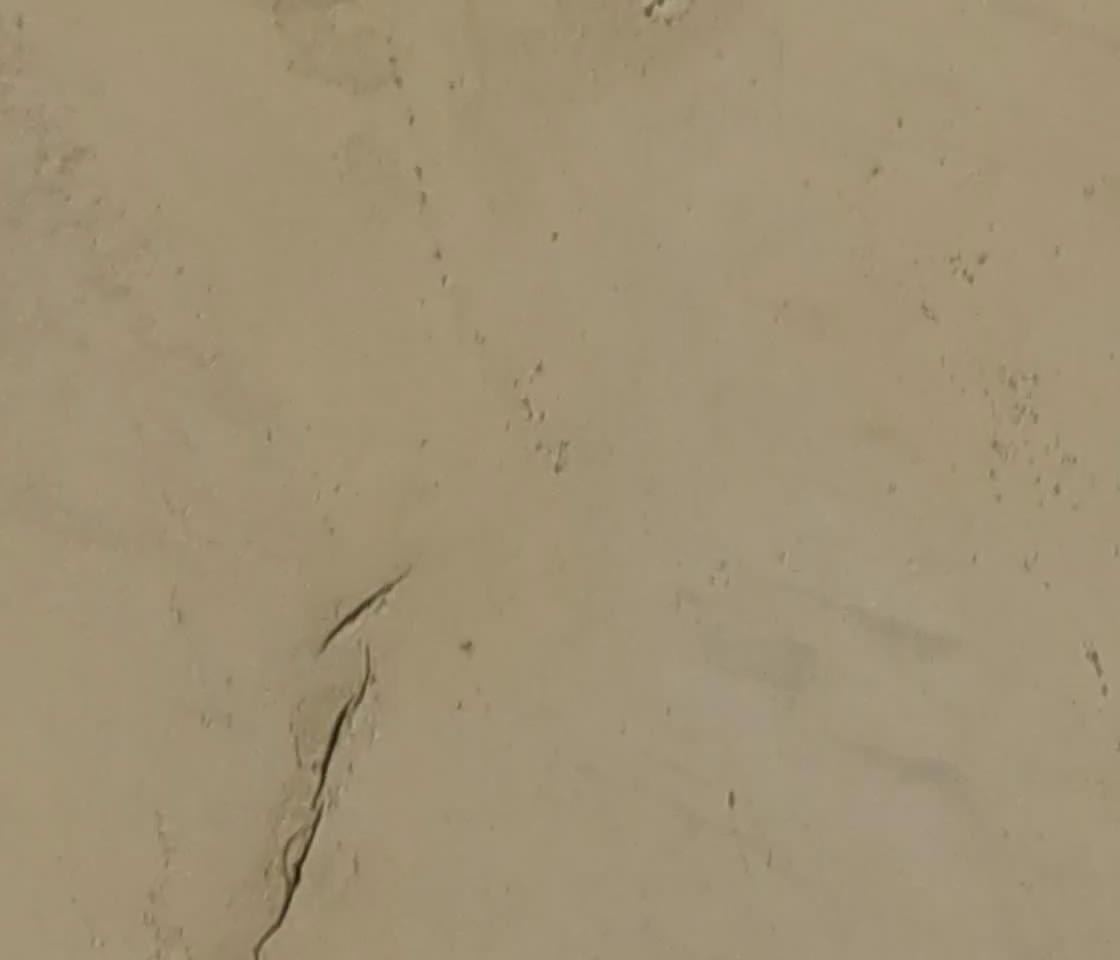scratch: (255, 670, 356, 960), (315, 573, 408, 647)
